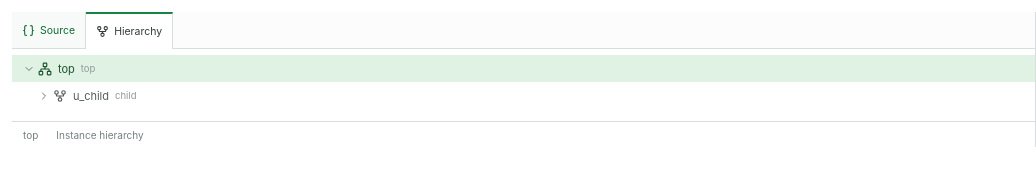
it: InstanceHierarchy › loads an instance lazily and navigates to the resulting hierarchy stack
Click the button with aria-label "u_child (child)": [95, 96] box x1=53 y1=83 x2=136 y2=108
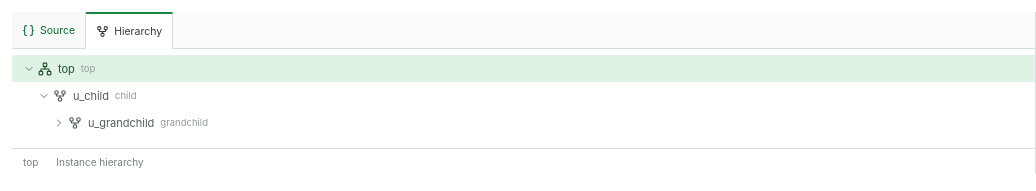
Now the button with aria-label "u_grandchild (grandchild)" is shown, box x1=68 y1=110 x2=208 y2=135
